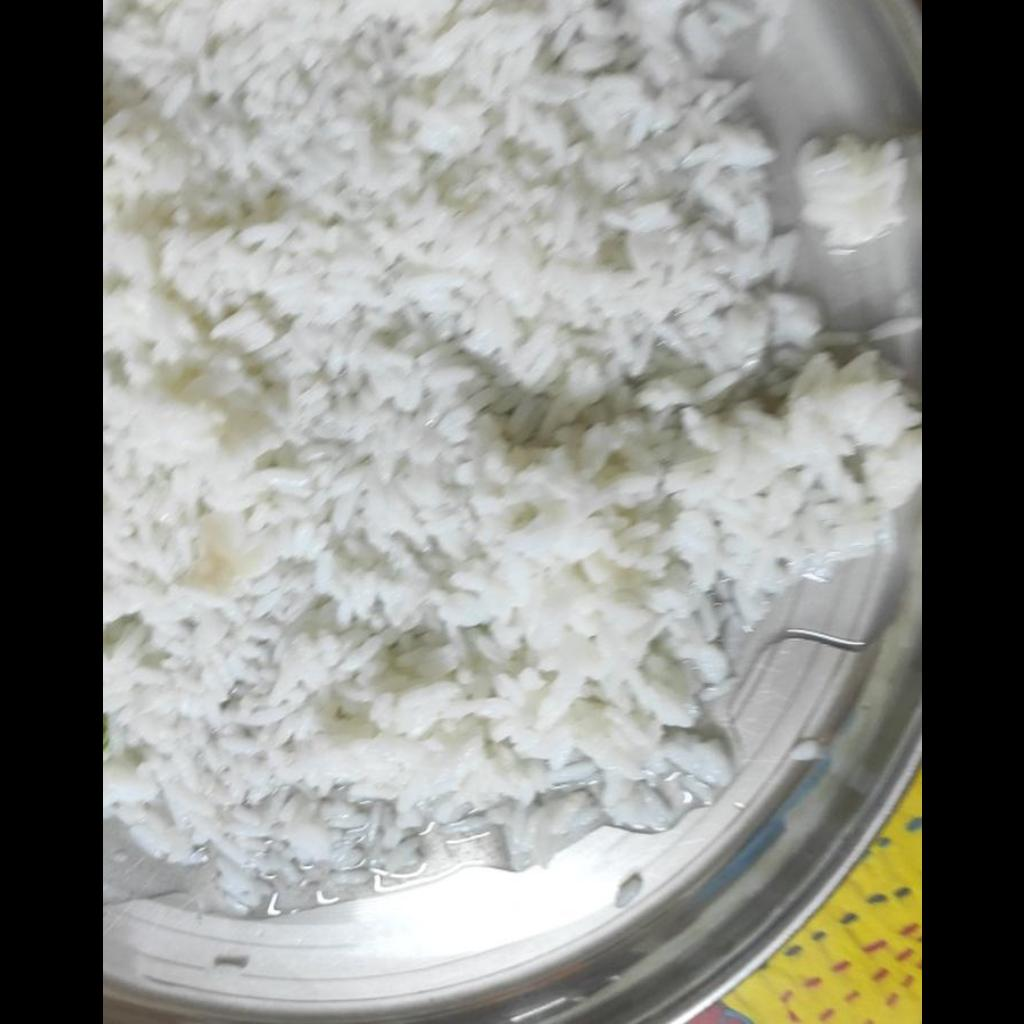rice: (102, 1, 920, 908)
